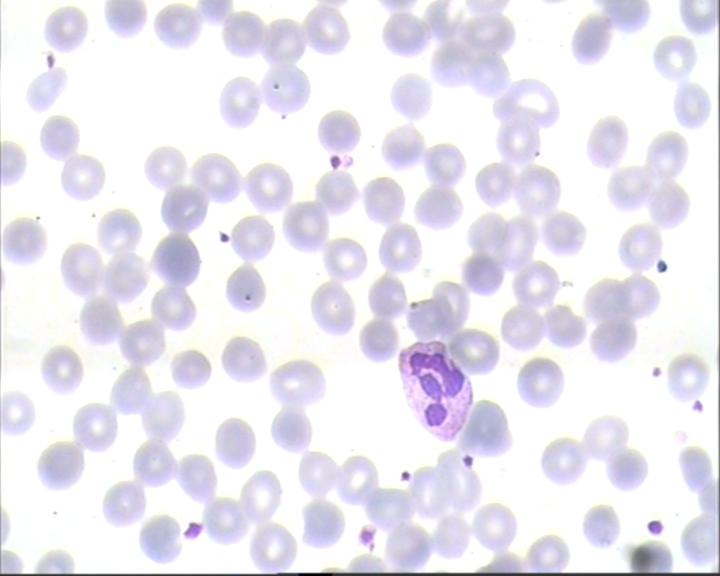neut: (399, 339, 473, 447)
